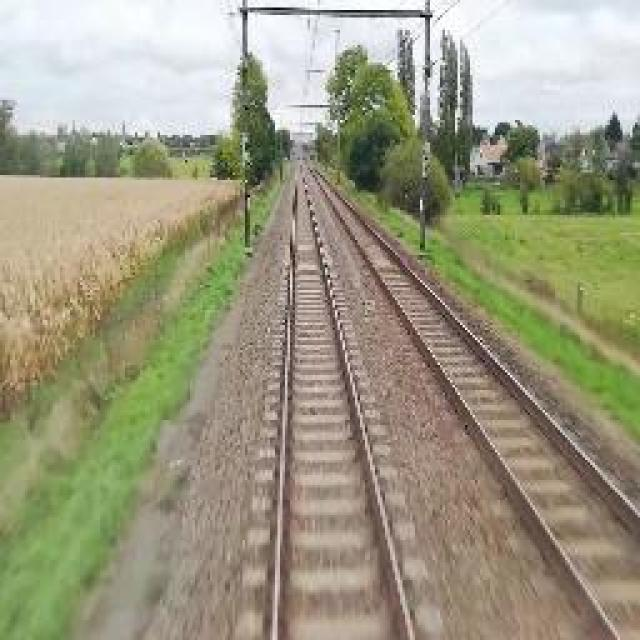rail: (237, 161, 454, 640)
